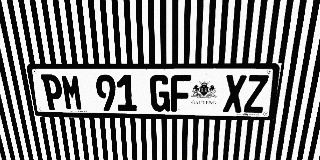1: (115, 75, 137, 111)
9: (95, 74, 117, 111)
F: (171, 75, 191, 112)
G: (150, 75, 170, 112)
M: (60, 74, 84, 111)
P: (41, 74, 65, 110)
X: (223, 75, 247, 112)
Z: (244, 75, 269, 113)
